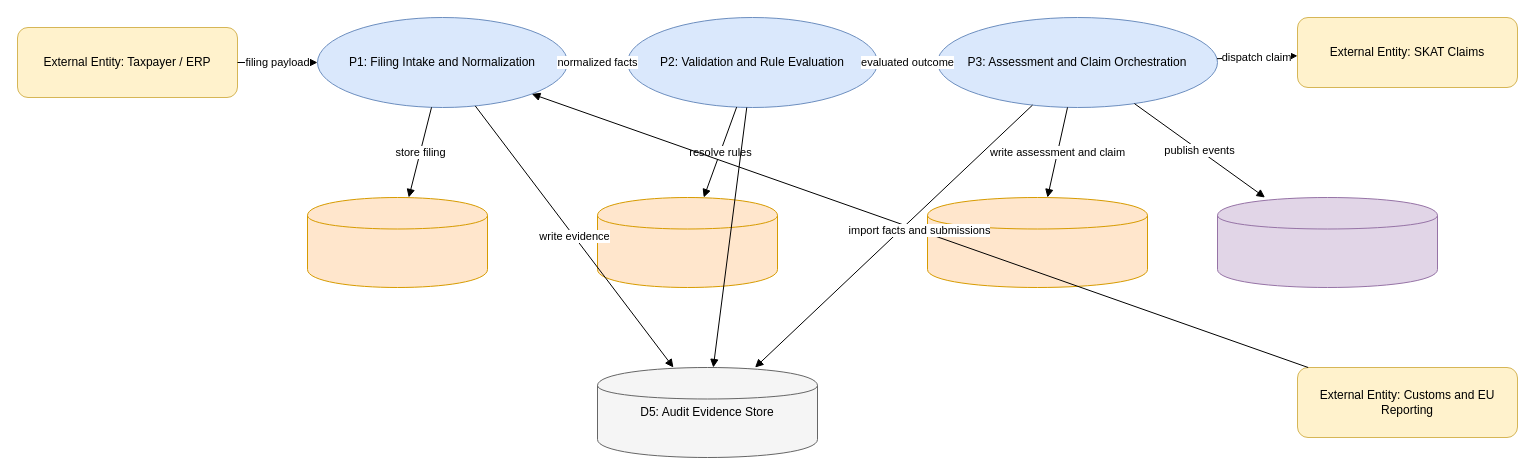
The diagram is 1535 pixels wide and 475 high, and some of its shapes have lost their labels. Each missing label, with the box of its shape:
D1: Filing Store: (306, 196, 488, 288)
D2: Rule Catalog: (596, 196, 778, 288)
D3: Assessment and Claim Store: (926, 196, 1148, 288)
D4: Event Backbone and DLQ: (1216, 196, 1438, 288)
